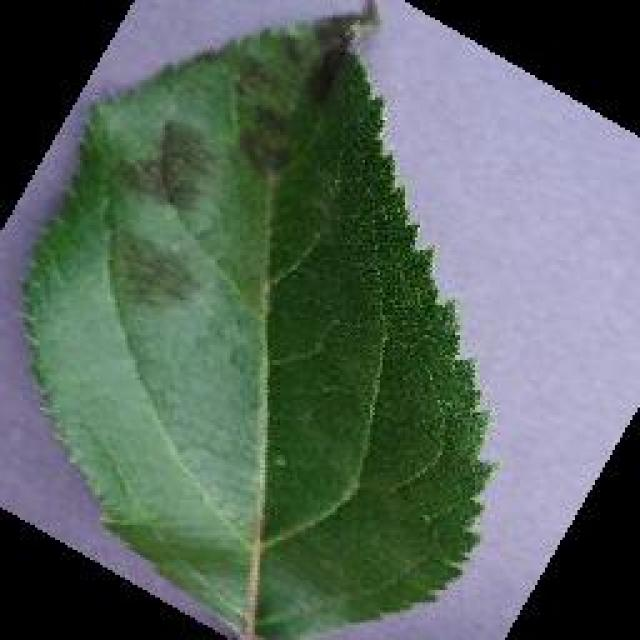apple scab disease: (15, 2, 497, 638)
